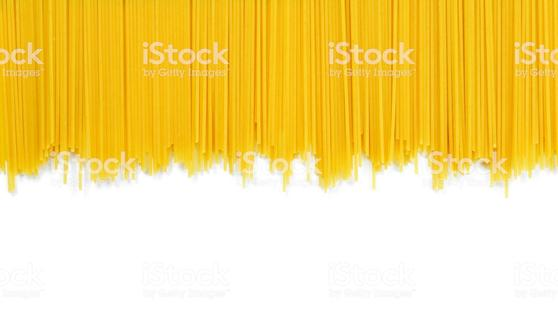spaghetti: (2, 6, 558, 199)
